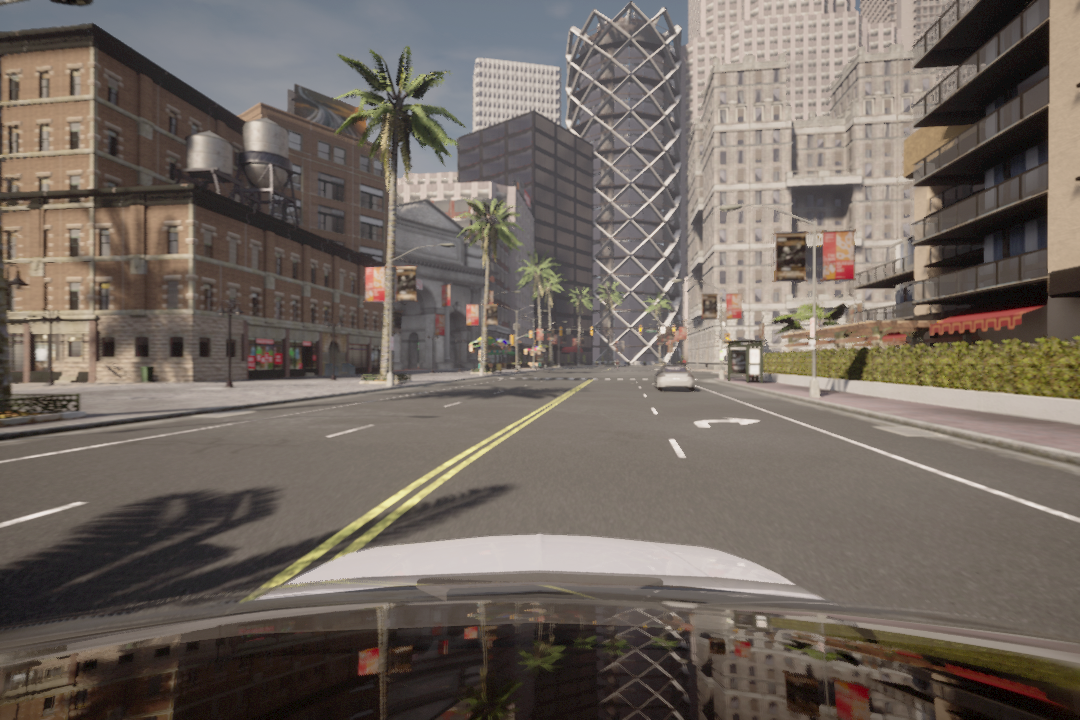RoadSign_right: (689, 412, 765, 437)
